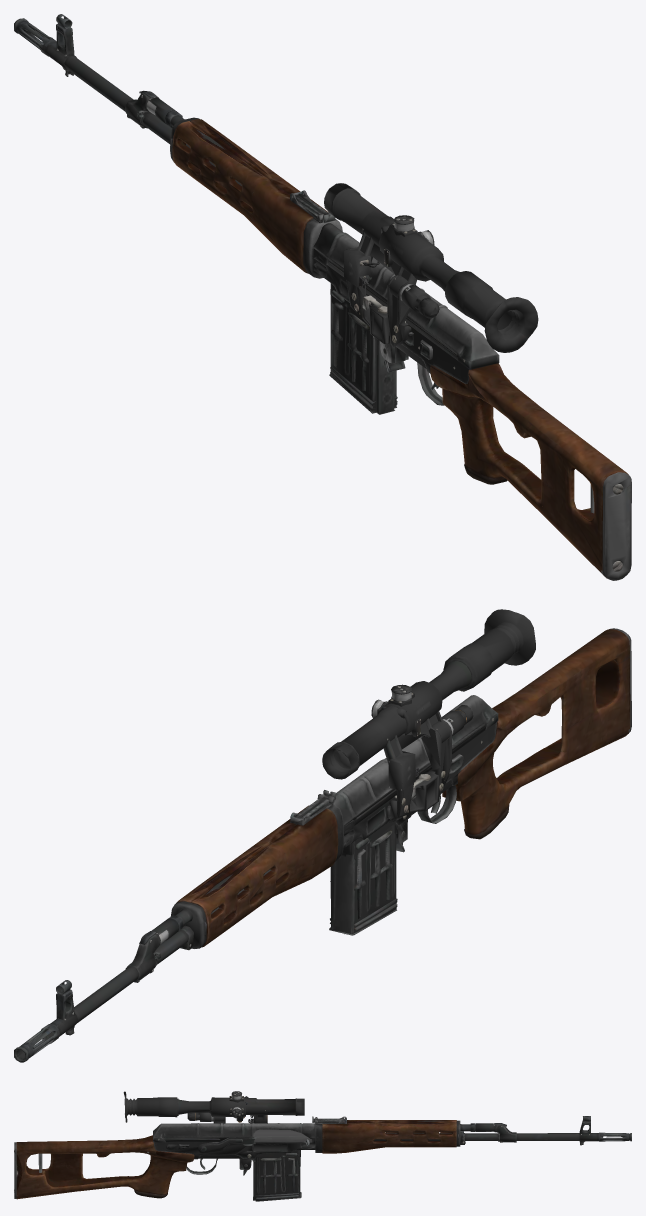
Rendered from svd_lod.glb.
3 renders of one model, top to bottom at view 1: azimuth 30°, elevation 25°; view 2: azimuth 150°, elevation 25°; view 3: azimuth 270°, elevation 25°, orthographic. The views are drawn at different scales.
Visible parts, largest first — view 1: svd_body, mag; view 2: svd_body, mag; view 3: svd_body, mag.
Boxes of the visible parts, box(x1,y1,x2,y2) form: svd_body: box(14, 14, 631, 580); mag: box(329, 283, 397, 414); svd_body: box(14, 609, 631, 1062); mag: box(329, 821, 397, 935); svd_body: box(14, 1091, 631, 1199); mag: box(253, 1150, 301, 1201).
Size of the model in its own units: 0.0749 by 0.2331 by 1.23.
1 material, 1 textured.
